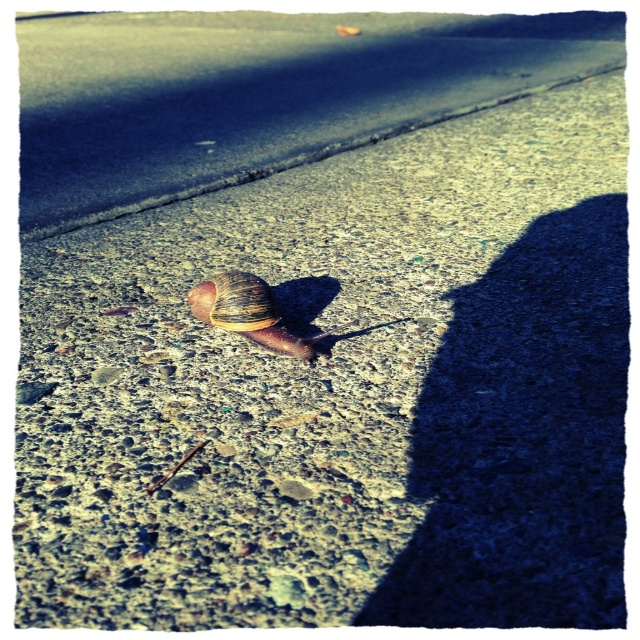Snail: (184, 269, 360, 361)
